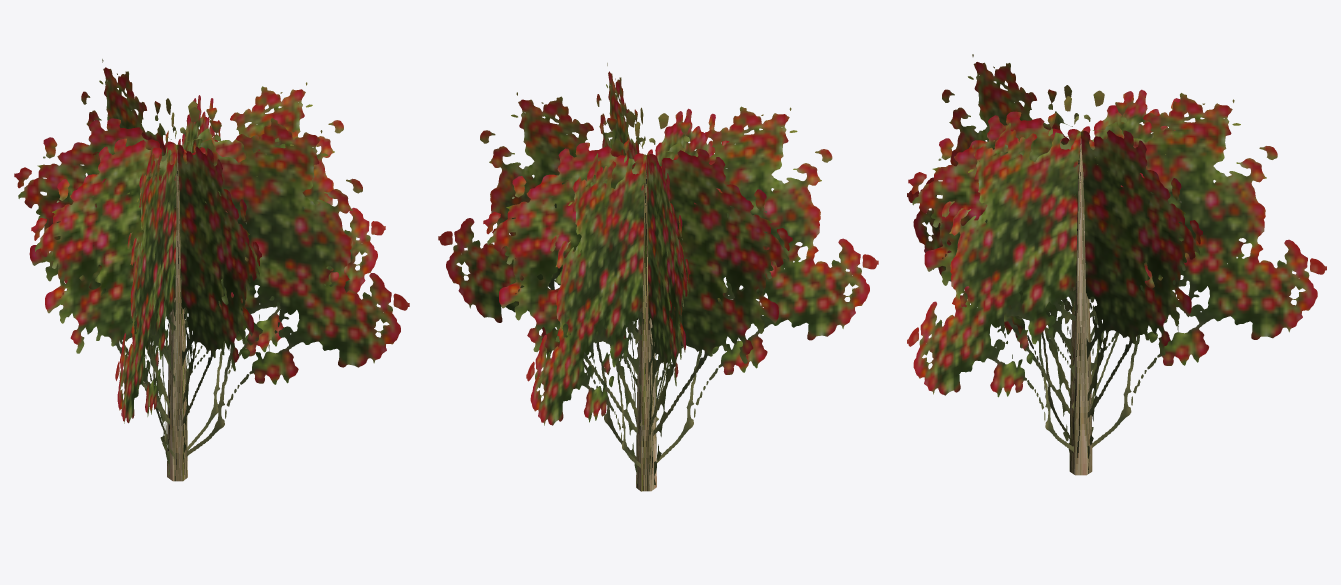
The model's file is Shrub_D1.fbx.
3 renders of one model, left to right at view 1: azimuth 30°, elevation 25°; view 2: azimuth 150°, elevation 25°; view 3: azimuth 270°, elevation 25°, orthographic. The views are drawn at different scales.
Parts seen in each view (by area): view 1: Shrub_D1; view 2: Shrub_D1; view 3: Shrub_D1.
Part boxes in pixels (x1,y1,x2,y2): Shrub_D1: (14, 59, 409, 481); Shrub_D1: (438, 63, 878, 491); Shrub_D1: (907, 54, 1326, 475).
Bounding box in the file's own units: 1 × 1.01 × 1.
